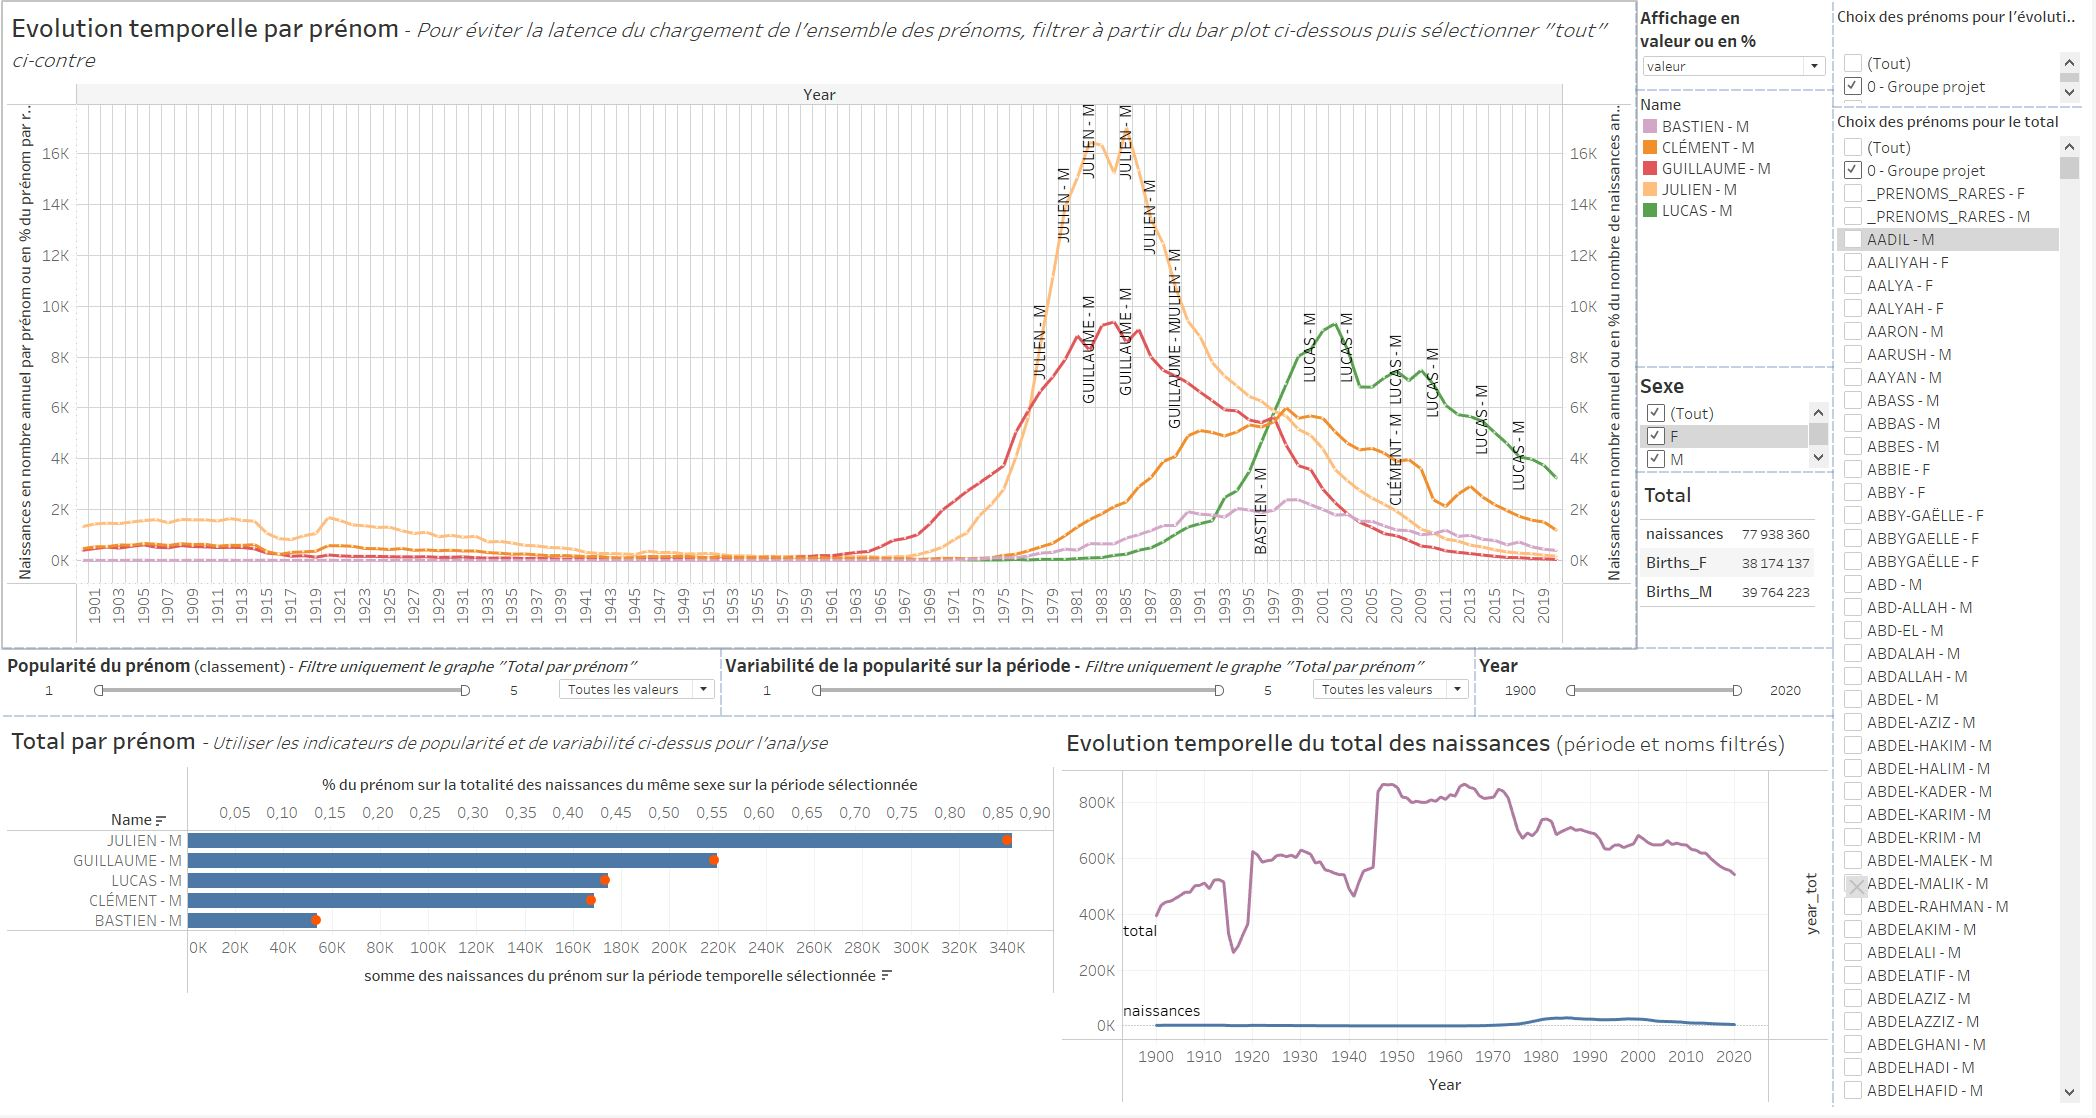

The dashboard page shown, as its layout file describes it:
{"tool":"tableau","page":{"name":"Visualisation prénoms","canvas":[2097,1121],"ordinal":0},"visuals":[{"type":"worksheet","title":"Evolution temporelle","mark":"Line","rows":["Calculation_1397241829067522069","Calculation_1397241829067522069"],"cols":["year"],"box":[8,8,1633,646.4]},{"type":"parameter","param":"[Parameters].[Paramètre 1]","box":[1641,8,197,88]},{"type":"filter","title":"Evolution temporelle","param":"[federated.1vpvugp12bnxv41d0p26l1a2qaij].[Name (groupe)]","box":[1838,8,251,105]},{"type":"legend","title":"Evolution temporelle","param":"[federated.1vpvugp12bnxv41d0p26l1a2qaij].[none:name:nk]","box":[1641,96,197,277]},{"type":"filter","title":"Total par prénom","param":"[federated.1vpvugp12bnxv41d0p26l1a2qaij].[Name (groupe)]","box":[1838,113,251,1000]},{"type":"filter","title":"Evolution temporelle","param":"[federated.1vpvugp12bnxv41d0p26l1a2qaij].[none:sexe:nk]","box":[1641,373,197,105.3]},{"type":"worksheet","title":"Statistiques globales période","mark":"Automatic","box":[1641,478.3,197,176.1]},{"type":"legend","title":"Total par prénom","param":"[federated.1vpvugp12bnxv41d0p26l1a2qaij].[:Measure Names]","box":[975.4,552.1,869,41.1]},{"type":"legend","title":"Evolution temporelle","param":"[federated.1vpvugp12bnxv41d0p26l1a2qaij].[sum:Calculation_1397241828944269315:qk","box":[975.4,653.2,869,65.1]},{"type":"filter","title":"Total par prénom","param":"[federated.1vpvugp12bnxv41d0p26l1a2qaij].[usr:Calculation_928867467635740675:qk:","box":[8,654.4,717.6,67.9]},{"type":"filter","title":"Total par prénom","param":"[federated.1vpvugp12bnxv41d0p26l1a2qaij].[usr:Calculation_1397241828998709253:qk","box":[725.6,654.4,754.4,67.9]},{"type":"filter","title":"Total par prénom","param":"[federated.1vpvugp12bnxv41d0p26l1a2qaij].[none:year:qk]","box":[1480,654.4,358,67.9]},{"type":"worksheet","title":"Total par prénom","mark":"Bar","rows":["name"],"cols":["births","Calculation_140456058196975621"],"box":[8,722.3,1055,390.7]},{"type":"worksheet","title":"Evolution temporelle du total","mark":"Automatic","rows":["births","Calculation_792352104297877504"],"cols":["year"],"box":[1063,722.3,775,390.7]},{"type":"dashboard-object","box":[1850.8,882.3,22.6,22]}]}

Visuals, with their boxes in screenshot pixels (x1, y1, x2, y2), scaled from the page's 2097x1121 canvas onto the 2096x1118 screenshot:
"Evolution temporelle" worksheet (Line marks): (left=8, top=8, right=1640, bottom=653)
parameter: (left=1640, top=8, right=1837, bottom=96)
"Evolution temporelle" filter: (left=1837, top=8, right=2088, bottom=113)
"Evolution temporelle" legend: (left=1640, top=96, right=1837, bottom=372)
"Total par prénom" filter: (left=1837, top=113, right=2088, bottom=1110)
"Evolution temporelle" filter: (left=1640, top=372, right=1837, bottom=477)
"Statistiques globales période" worksheet: (left=1640, top=477, right=1837, bottom=653)
"Total par prénom" legend: (left=975, top=551, right=1844, bottom=592)
"Evolution temporelle" legend: (left=975, top=651, right=1844, bottom=716)
"Total par prénom" filter: (left=8, top=653, right=725, bottom=720)
"Total par prénom" filter: (left=725, top=653, right=1479, bottom=720)
"Total par prénom" filter: (left=1479, top=653, right=1837, bottom=720)
"Total par prénom" worksheet (Bar marks): (left=8, top=720, right=1062, bottom=1110)
"Evolution temporelle du total" worksheet: (left=1062, top=720, right=1837, bottom=1110)
dashboard-object: (left=1850, top=880, right=1873, bottom=902)
